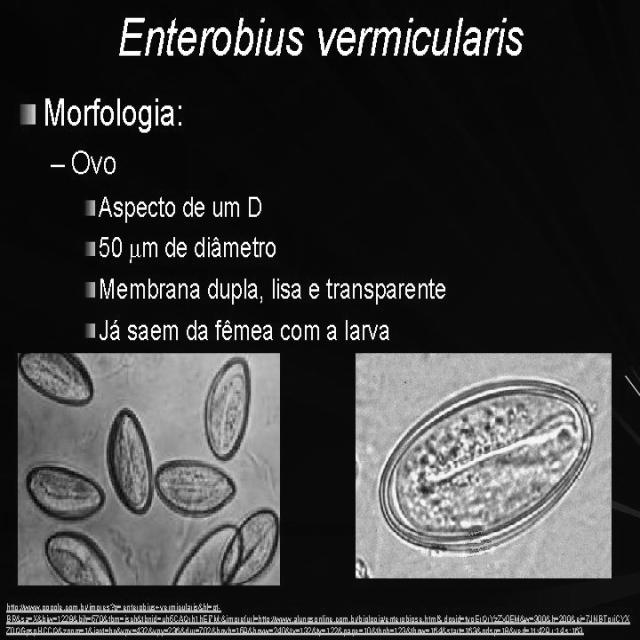Enterobius Vermicularis: (373, 378, 591, 558), (199, 354, 253, 471), (22, 459, 106, 527), (105, 408, 156, 514), (152, 458, 238, 520), (217, 504, 280, 588), (171, 520, 247, 587), (17, 352, 96, 410), (44, 526, 119, 586)
